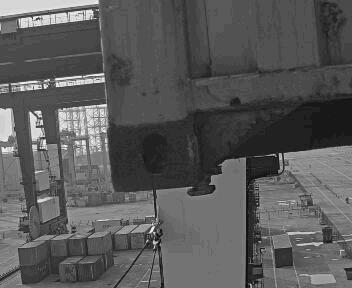twist_lock_1: (171, 161, 235, 206)
